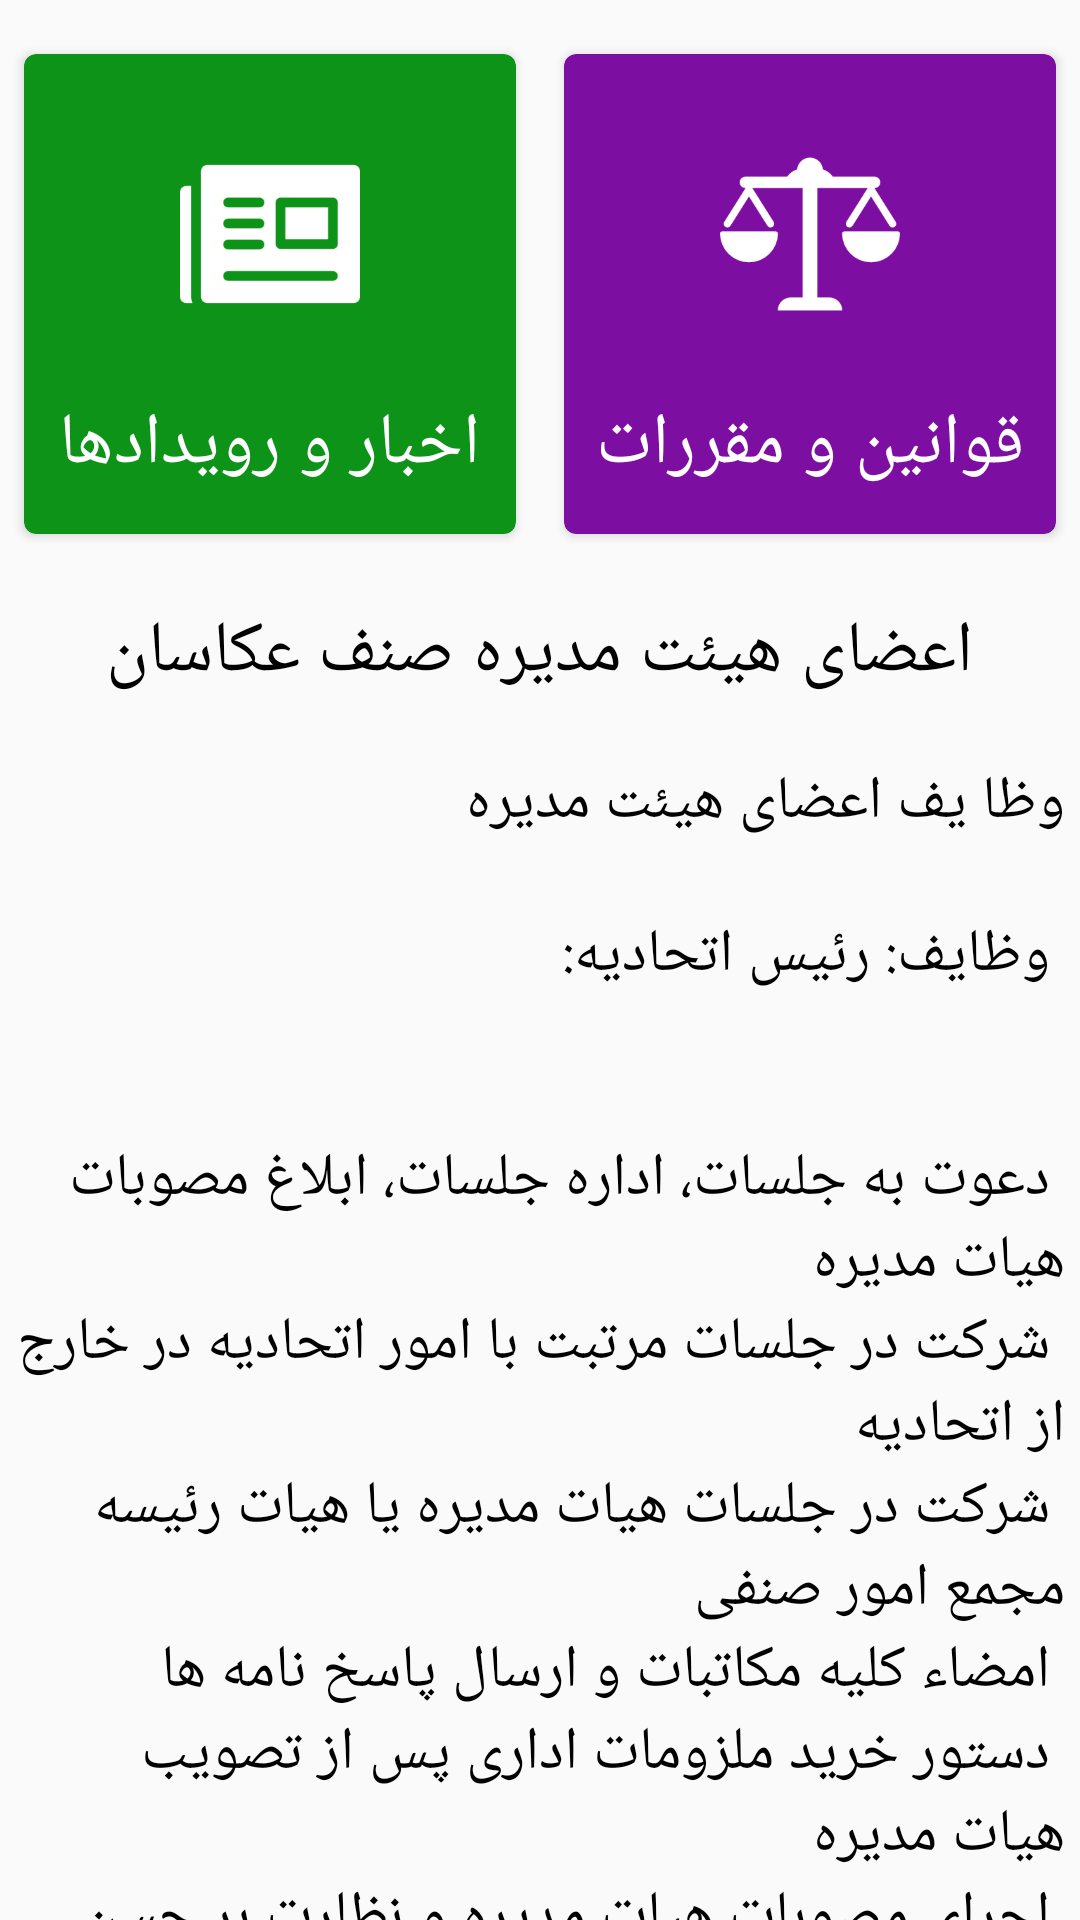

Locate icon controls on the screen. Image size 1080 x 1920, boxes as (x1, y1, x2, y2).
news: (180, 164, 360, 304)
rule: (720, 157, 900, 311)
